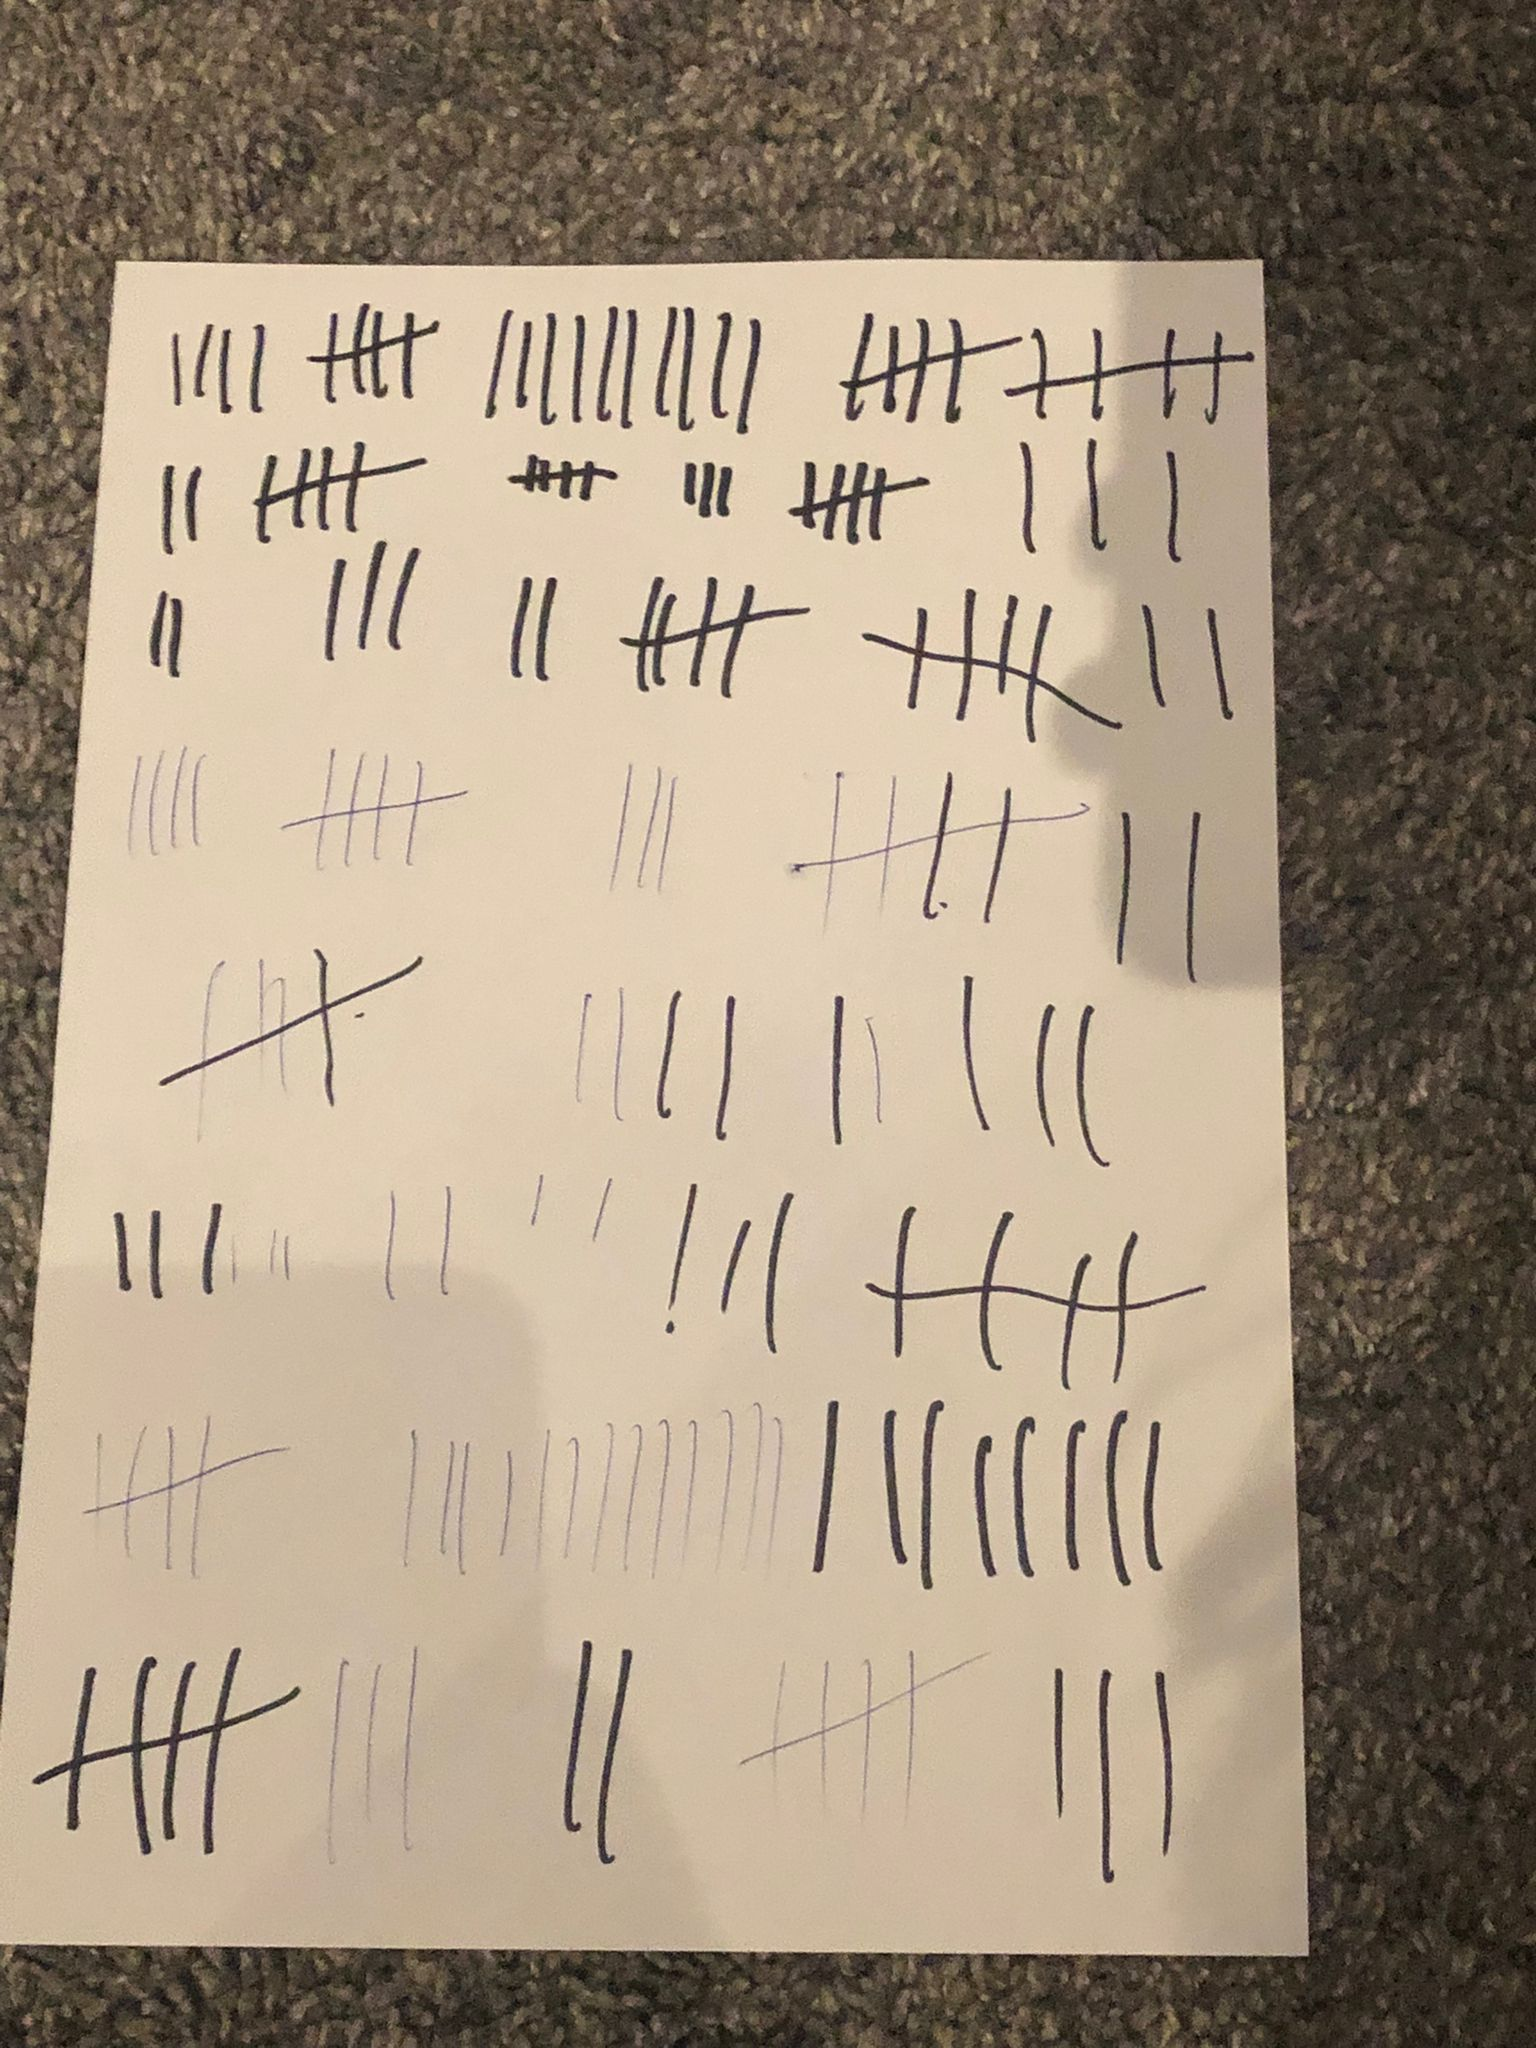Block: (865, 1200, 1212, 1392), (31, 1643, 303, 1863), (157, 947, 431, 1148), (786, 766, 1091, 937), (741, 1643, 986, 1827), (858, 584, 1125, 748), (82, 1414, 290, 1580), (618, 569, 812, 701), (1004, 323, 1255, 423), (276, 748, 473, 874), (836, 306, 1025, 427), (252, 442, 429, 543), (302, 298, 440, 408), (787, 452, 934, 547), (507, 453, 620, 505)
Single: (1071, 993, 1120, 1168), (603, 1640, 637, 1866), (319, 1650, 352, 1872), (1091, 1658, 1121, 1888), (1146, 1659, 1181, 1858), (915, 1398, 950, 1592), (762, 1184, 800, 1356), (812, 1392, 847, 1579), (957, 969, 995, 1135), (566, 1629, 597, 1834), (1104, 1401, 1136, 1592), (873, 1397, 908, 1564), (965, 1427, 1000, 1587), (1008, 1405, 1039, 1587), (1028, 998, 1063, 1151), (1039, 1655, 1071, 1822), (1199, 600, 1242, 724), (1139, 1414, 1171, 1579), (360, 1651, 389, 1829), (397, 1637, 419, 1861), (678, 1172, 708, 1335), (712, 985, 741, 1150), (653, 982, 686, 1127), (649, 1409, 674, 1584), (824, 985, 850, 1153), (1181, 808, 1205, 985), (1063, 1411, 1087, 1582), (1136, 595, 1170, 713), (766, 1408, 791, 1572), (744, 1392, 765, 1571), (623, 1414, 645, 1579), (715, 1400, 736, 1576), (592, 1413, 615, 1576), (1112, 805, 1134, 968), (316, 552, 347, 669), (862, 1011, 892, 1127), (679, 1406, 700, 1572), (1081, 434, 1108, 553), (494, 1440, 520, 1564), (376, 1180, 402, 1305), (726, 1208, 755, 1316), (1016, 435, 1042, 556), (399, 545, 428, 651), (395, 1426, 416, 1572), (461, 1435, 482, 1572), (623, 756, 644, 893), (563, 1430, 584, 1563), (198, 1197, 226, 1297), (1163, 447, 1186, 566), (145, 742, 168, 860), (366, 537, 389, 655), (534, 576, 558, 685), (745, 311, 766, 435), (437, 1434, 457, 1567), (573, 984, 592, 1113), (508, 572, 531, 682), (539, 310, 560, 427), (434, 1182, 455, 1297), (716, 305, 737, 419), (536, 1422, 552, 1571), (245, 318, 269, 416), (110, 1206, 136, 1298), (171, 585, 195, 682), (682, 302, 700, 432), (603, 303, 623, 423), (662, 302, 681, 418), (668, 768, 686, 893), (623, 305, 641, 431), (155, 458, 177, 555), (182, 456, 207, 547), (568, 311, 587, 423), (148, 581, 171, 676), (587, 1168, 615, 1243), (650, 761, 666, 889), (124, 750, 142, 864), (190, 318, 215, 402), (190, 747, 210, 850), (215, 324, 236, 416), (613, 979, 626, 1127), (145, 1205, 163, 1306), (173, 739, 189, 848), (502, 302, 516, 419), (528, 1164, 552, 1232), (715, 456, 737, 522), (521, 318, 536, 408), (697, 456, 715, 522), (674, 455, 695, 510), (169, 327, 182, 410), (281, 1232, 295, 1284), (263, 1224, 278, 1276), (226, 1230, 239, 1284), (416, 600, 431, 601)
